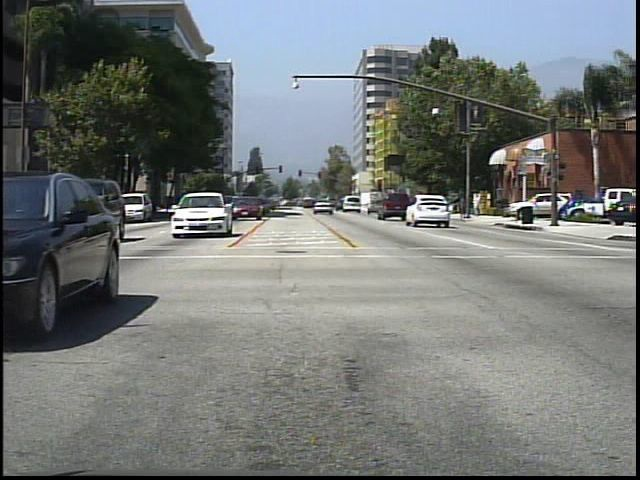person: (436, 191, 451, 220), (473, 190, 485, 219)
